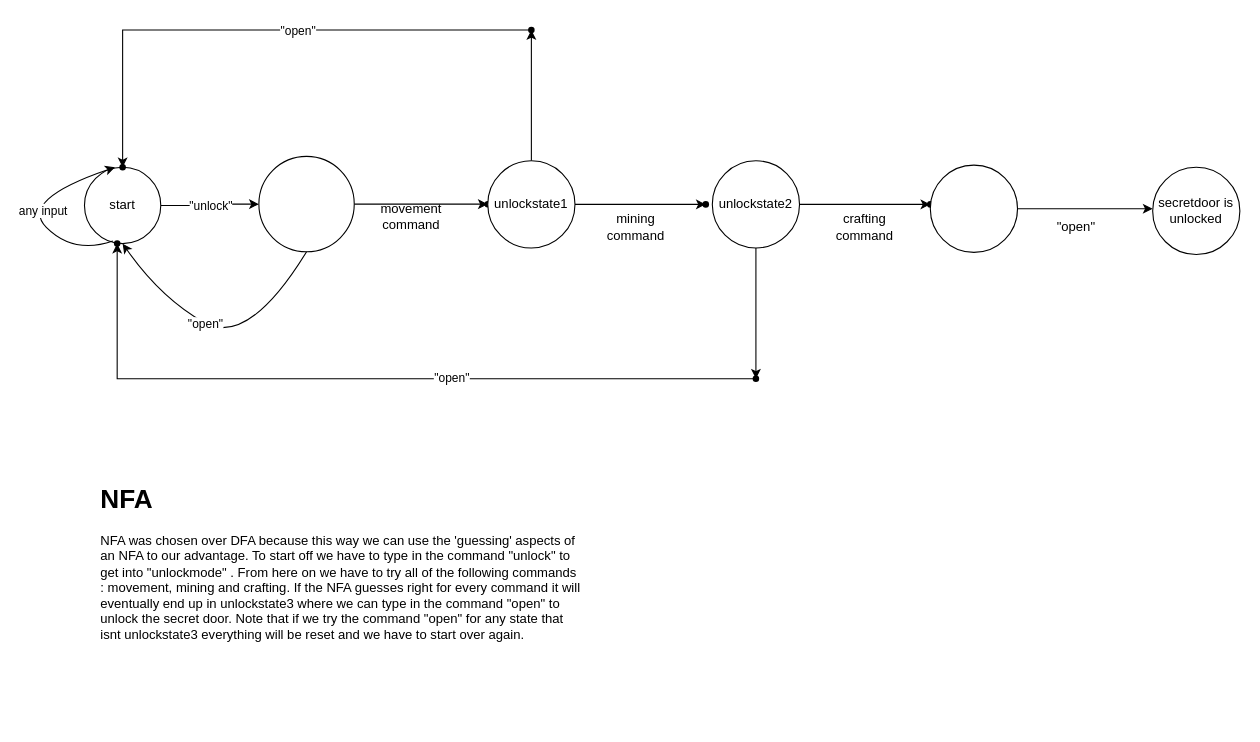
This 1260x742 diagram has some shape labels left out. Here are the shapes that lost their labels. From the top down, the box of each, then its label:
(258, 155, 354, 252): unlockmode
(929, 164, 1018, 252): unlockstate3
